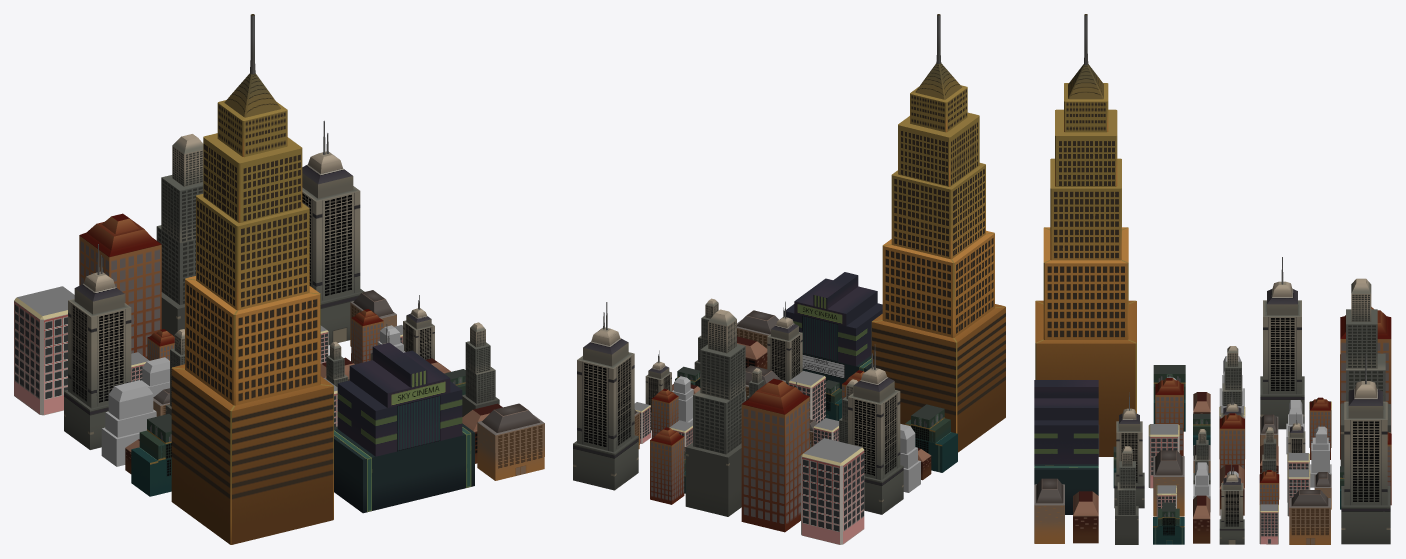
Rendered from Builds.fbx.
3 renders of one model, left to right at view 1: azimuth 30°, elevation 25°; view 2: azimuth 150°, elevation 25°; view 3: azimuth 270°, elevation 25°, orthographic. The views are drawn at different scales.
Parts seen in each view (by area): view 1: Build_4, Build_8, Build_9, Build_9_1, Build_1_1, Build_2_1, Build_5, Build_3_2, Build_10_1, Build_7, Build_5_2, Build_1_2 (+5 smaller); view 2: Build_4, Build_5, Build_1_1, Build_9_1, Build_8, Build_9, Build_2_1, Build_1_5, Build_7, Build_9_2, Build_2, Build_10_1 (+8 smaller); view 3: Build_4, Build_9_1, Build_8, Build_9, Build_5, Build_3, Build_3_2, Build_5_2, Build_9_2, Build_9_3, Build_1_1, Build_3_1 (+21 smaller).
Part boxes in pixels (<box>): Build_4: <box>171,14,333,544</box>; Build_8: <box>334,342,474,513</box>; Build_9: <box>64,244,131,449</box>; Build_9_1: <box>302,120,364,345</box>; Build_1_1: <box>79,213,161,358</box>; Build_2_1: <box>14,286,74,415</box>; Build_5: <box>156,134,203,336</box>; Build_3_2: <box>477,403,544,480</box>; Build_10_1: <box>101,380,156,466</box>; Build_7: <box>131,414,171,496</box>; Build_5_2: <box>462,322,499,416</box>; Build_1_2: <box>351,309,383,364</box>; Build_4: <box>871,14,1005,452</box>; Build_5: <box>685,309,745,516</box>; Build_1_1: <box>741,378,809,532</box>; Build_9_1: <box>573,302,638,490</box>; Build_8: <box>784,272,882,388</box>; Build_9: <box>848,344,903,514</box>; Build_2_1: <box>801,438,864,544</box>; Build_1_5: <box>650,427,684,504</box>; Build_7: <box>905,404,957,472</box>; Build_9_2: <box>767,301,802,384</box>; Build_2: <box>788,371,825,423</box>; Build_10_1: <box>900,424,920,492</box>; Build_4: <box>1035,14,1136,456</box>; Build_9_1: <box>1341,354,1390,544</box>; Build_8: <box>1034,380,1098,514</box>; Build_9: <box>1260,257,1304,429</box>; Build_5: <box>1340,278,1390,466</box>; Build_3: <box>1289,490,1330,544</box>; Build_3_2: <box>1034,478,1064,543</box>; Build_5_2: <box>1115,446,1138,544</box>; Build_9_2: <box>1114,392,1144,508</box>; Build_9_3: <box>1219,462,1244,544</box>; Build_1_1: <box>1340,307,1391,459</box>; Build_3_1: <box>1153,450,1184,516</box>.
Size of the model in its own units: 6302 by 9128 by 7024.
